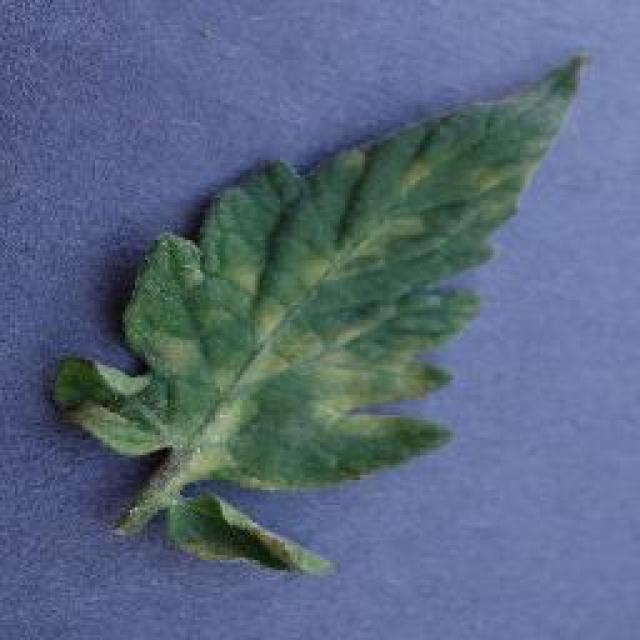Tomato___Leaf_Mold: (55, 58, 582, 570)
